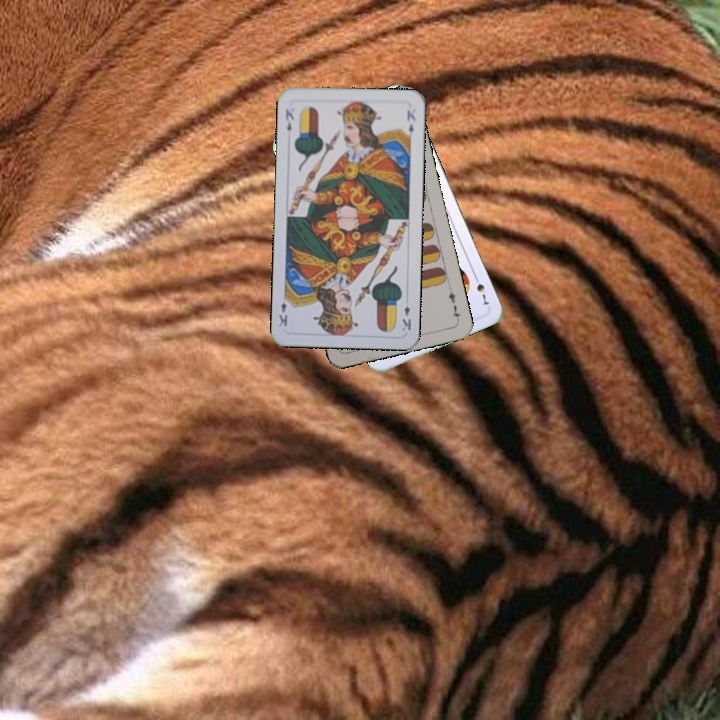E7: (444, 288, 463, 324)
EK: (398, 301, 414, 333), (281, 105, 296, 134)
S7: (470, 270, 492, 309)
